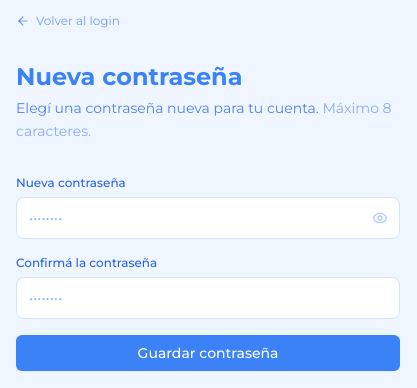
it: NuevaPasswordPage › con token en la URL › debería mostrar el estado de éxito cuando el servidor responde OK
Type "nueva12" into the password field with id "clave" at (208, 218), box [16,197,400,239]
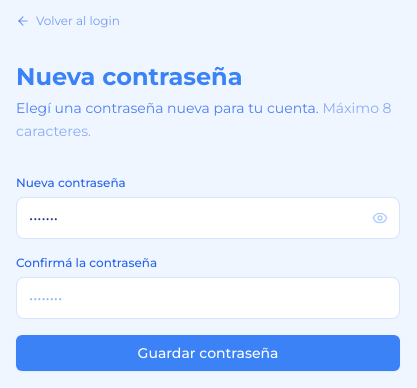
Type "nueva12" into the password field with id "confirm" at (208, 298), box [16,277,400,319]
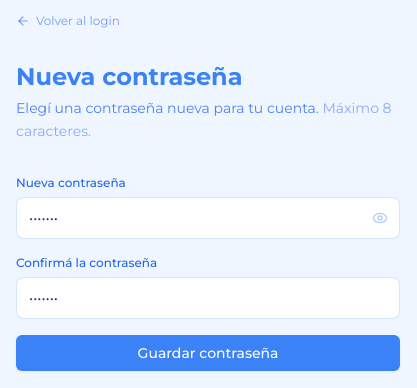
Submit the form, box [16,175,400,371]
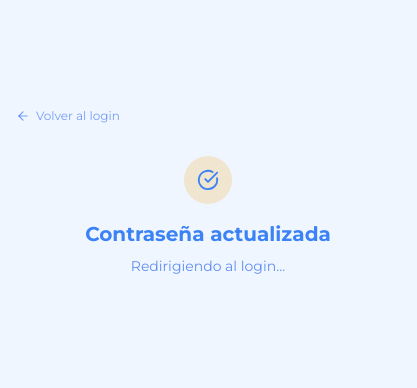
Expected: the heading "Contraseña actualizada" is shown, [85,222,331,246]
